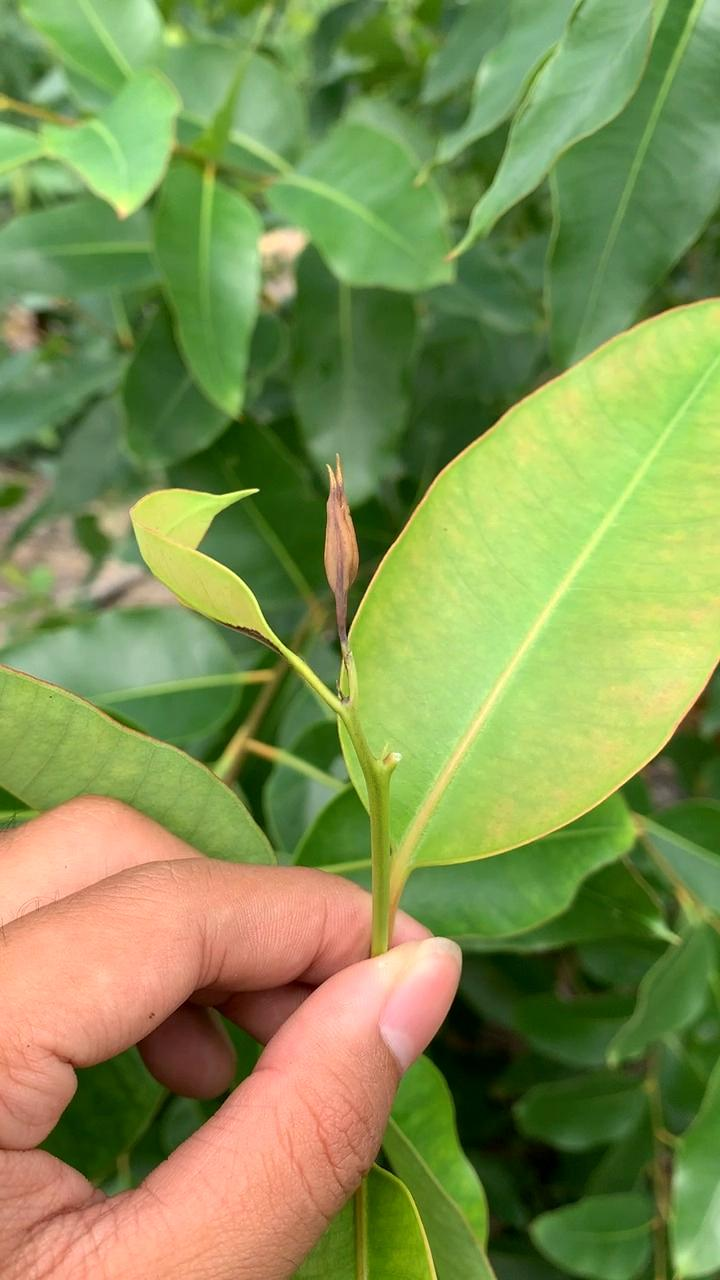Helopeltis-Withered Sprout: (290, 446, 385, 655)
